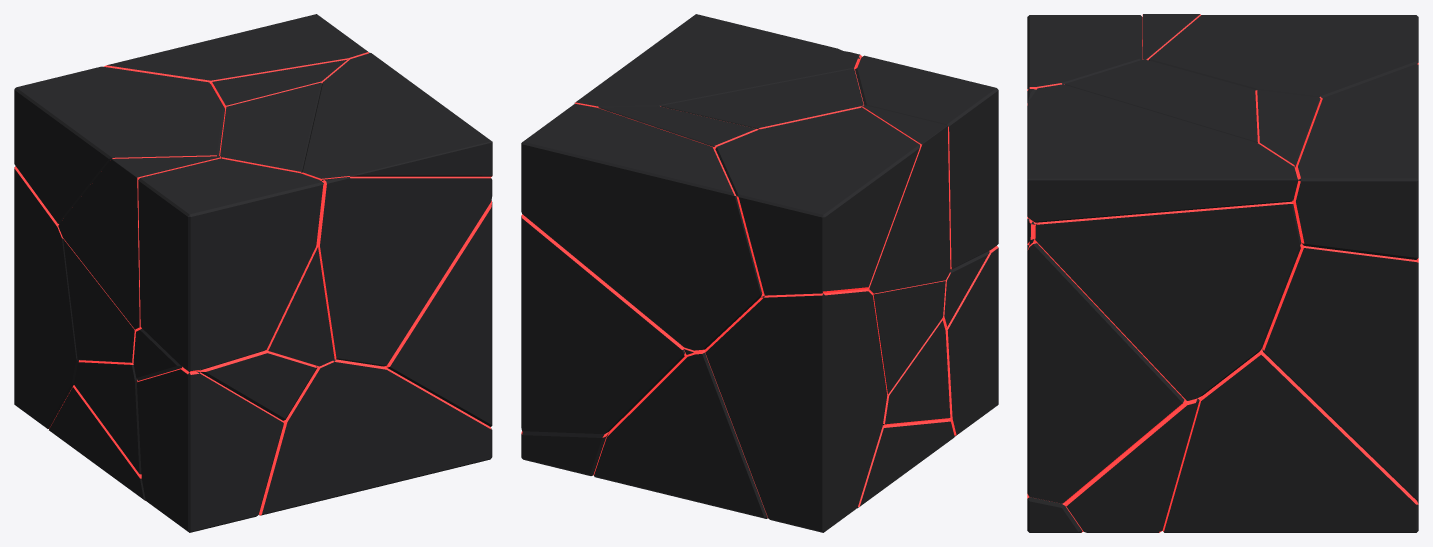
Rendered from cube-shards.glb.
The picture shows the model from 3 angles, left to right: view 1: azimuth 30°, elevation 25°; view 2: azimuth 150°, elevation 25°; view 3: azimuth 270°, elevation 25°; orthographic projection. The views are drawn at different scales.
Parts seen in each view (by area): view 1: Shard_27, Shard_23, Shard_03, Shard_05, Shard_11, Shard_16, Shard_09, Shard_07, Shard_17, Shard_24, Shard_06, Shard_08 (+5 smaller); view 2: Shard_24, Shard_07, Shard_05, Shard_22, Shard_04, Shard_16, Shard_27, Shard_17, Shard_11, Shard_06, Shard_01, Shard_26 (+4 smaller); view 3: Shard_20, Shard_14, Shard_16, Shard_22, Shard_09, Shard_24, Shard_05, Shard_12, Shard_06, Shard_27, Shard_15, Shard_17 (+1 smaller).
Part boxes in pixels (left/top/right/bottom): Shard_27: left=138, top=158, right=323, bottom=372; Shard_23: left=317, top=177, right=492, bottom=366; Shard_03: left=258, top=358, right=492, bottom=515; Shard_05: left=14, top=66, right=224, bottom=224; Shard_11: left=137, top=368, right=283, bottom=532; Shard_16: left=302, top=53, right=492, bottom=180; Shard_09: left=385, top=201, right=492, bottom=426; Shard_07: left=14, top=166, right=79, bottom=428; Shard_17: left=58, top=156, right=220, bottom=329; Shard_24: left=104, top=14, right=369, bottom=83; Shard_06: left=219, top=82, right=321, bottom=173; Shard_08: left=133, top=327, right=317, bottom=420; Shard_24: left=521, top=104, right=762, bottom=350; Shard_07: left=705, top=289, right=887, bottom=532; Shard_05: left=715, top=107, right=919, bottom=295; Shard_22: left=521, top=214, right=685, bottom=434; Shard_04: left=593, top=349, right=767, bottom=518; Shard_16: left=574, top=14, right=858, bottom=108; Shard_27: left=855, top=55, right=998, bottom=269; Shard_17: left=862, top=105, right=950, bottom=293; Shard_11: left=945, top=246, right=998, bottom=436; Shard_06: left=661, top=68, right=864, bottom=129; Shard_01: left=872, top=280, right=945, bottom=394; Shard_26: left=883, top=319, right=950, bottom=425; Shard_20: left=1034, top=202, right=1301, bottom=400; Shard_14: left=1162, top=348, right=1418, bottom=532; Shard_16: left=1027, top=84, right=1298, bottom=222; Shard_22: left=1262, top=246, right=1418, bottom=500; Shard_09: left=1027, top=242, right=1184, bottom=503; Shard_24: left=1291, top=64, right=1418, bottom=262; Shard_05: left=1148, top=15, right=1418, bottom=99; Shard_12: left=1065, top=396, right=1201, bottom=532; Shard_06: left=1064, top=59, right=1257, bottom=142; Shard_27: left=1027, top=15, right=1142, bottom=90; Shard_15: left=1255, top=90, right=1320, bottom=167; Shard_17: left=1142, top=14, right=1200, bottom=60.
Size of the model in its own units: 2 by 2 by 2.
